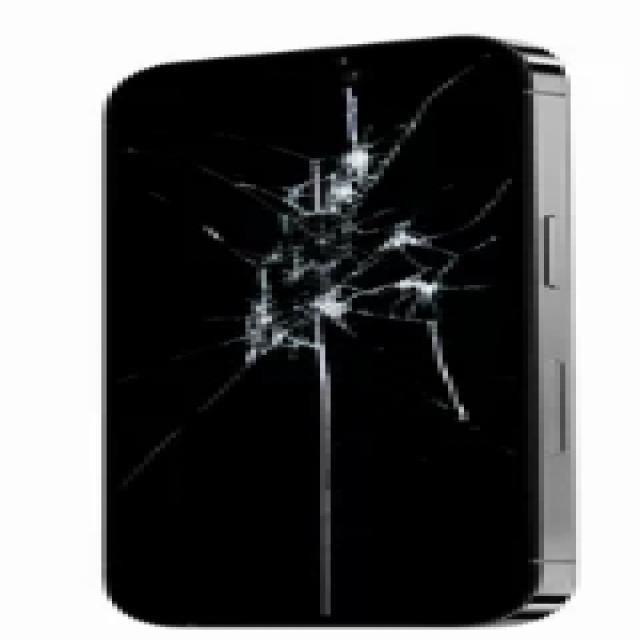Crack: (228, 146, 462, 363)
